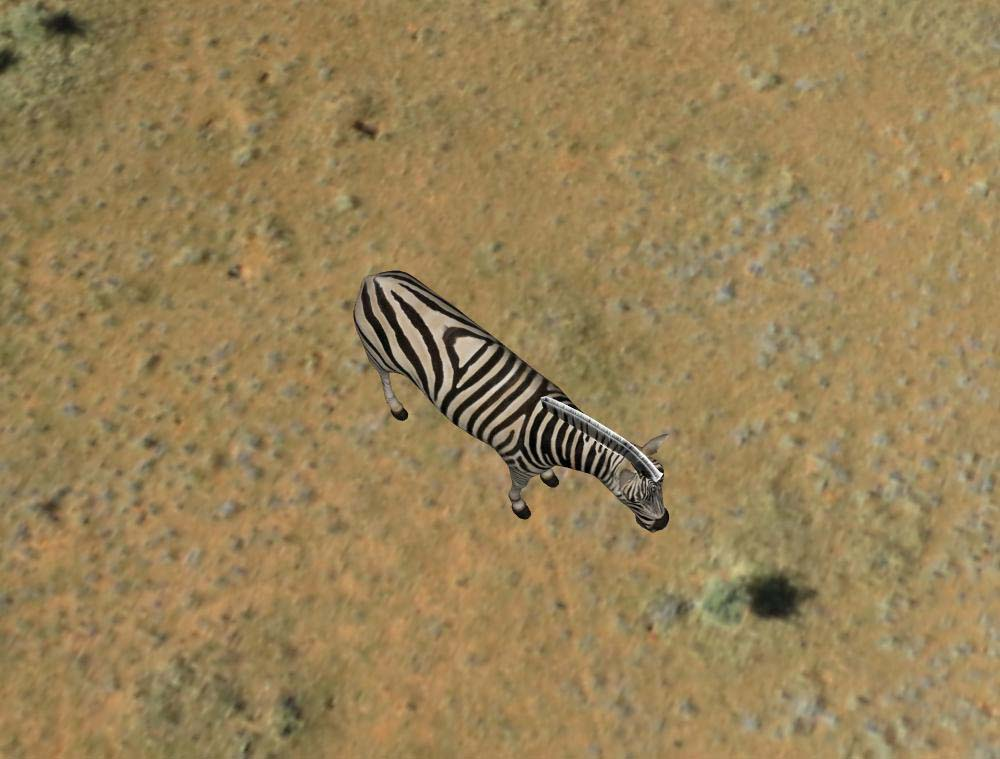zebra: (352, 264, 674, 545)
